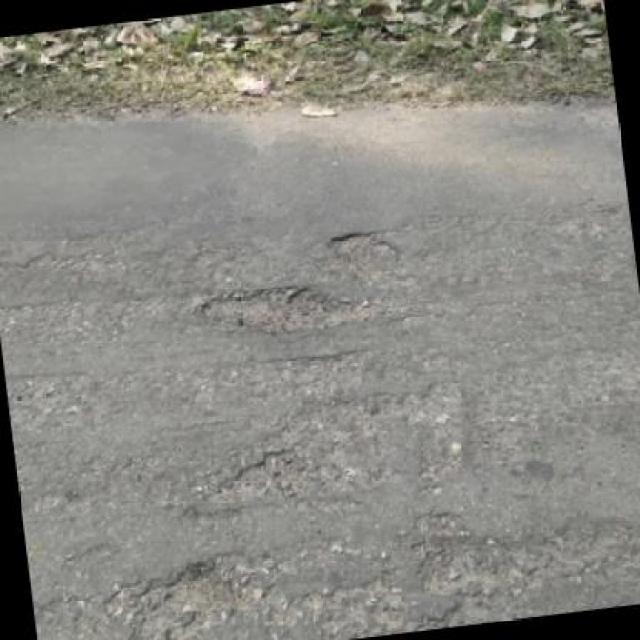pothole1: (196, 272, 367, 341), (150, 549, 259, 637), (204, 442, 321, 508), (412, 539, 496, 596), (325, 222, 404, 269)
